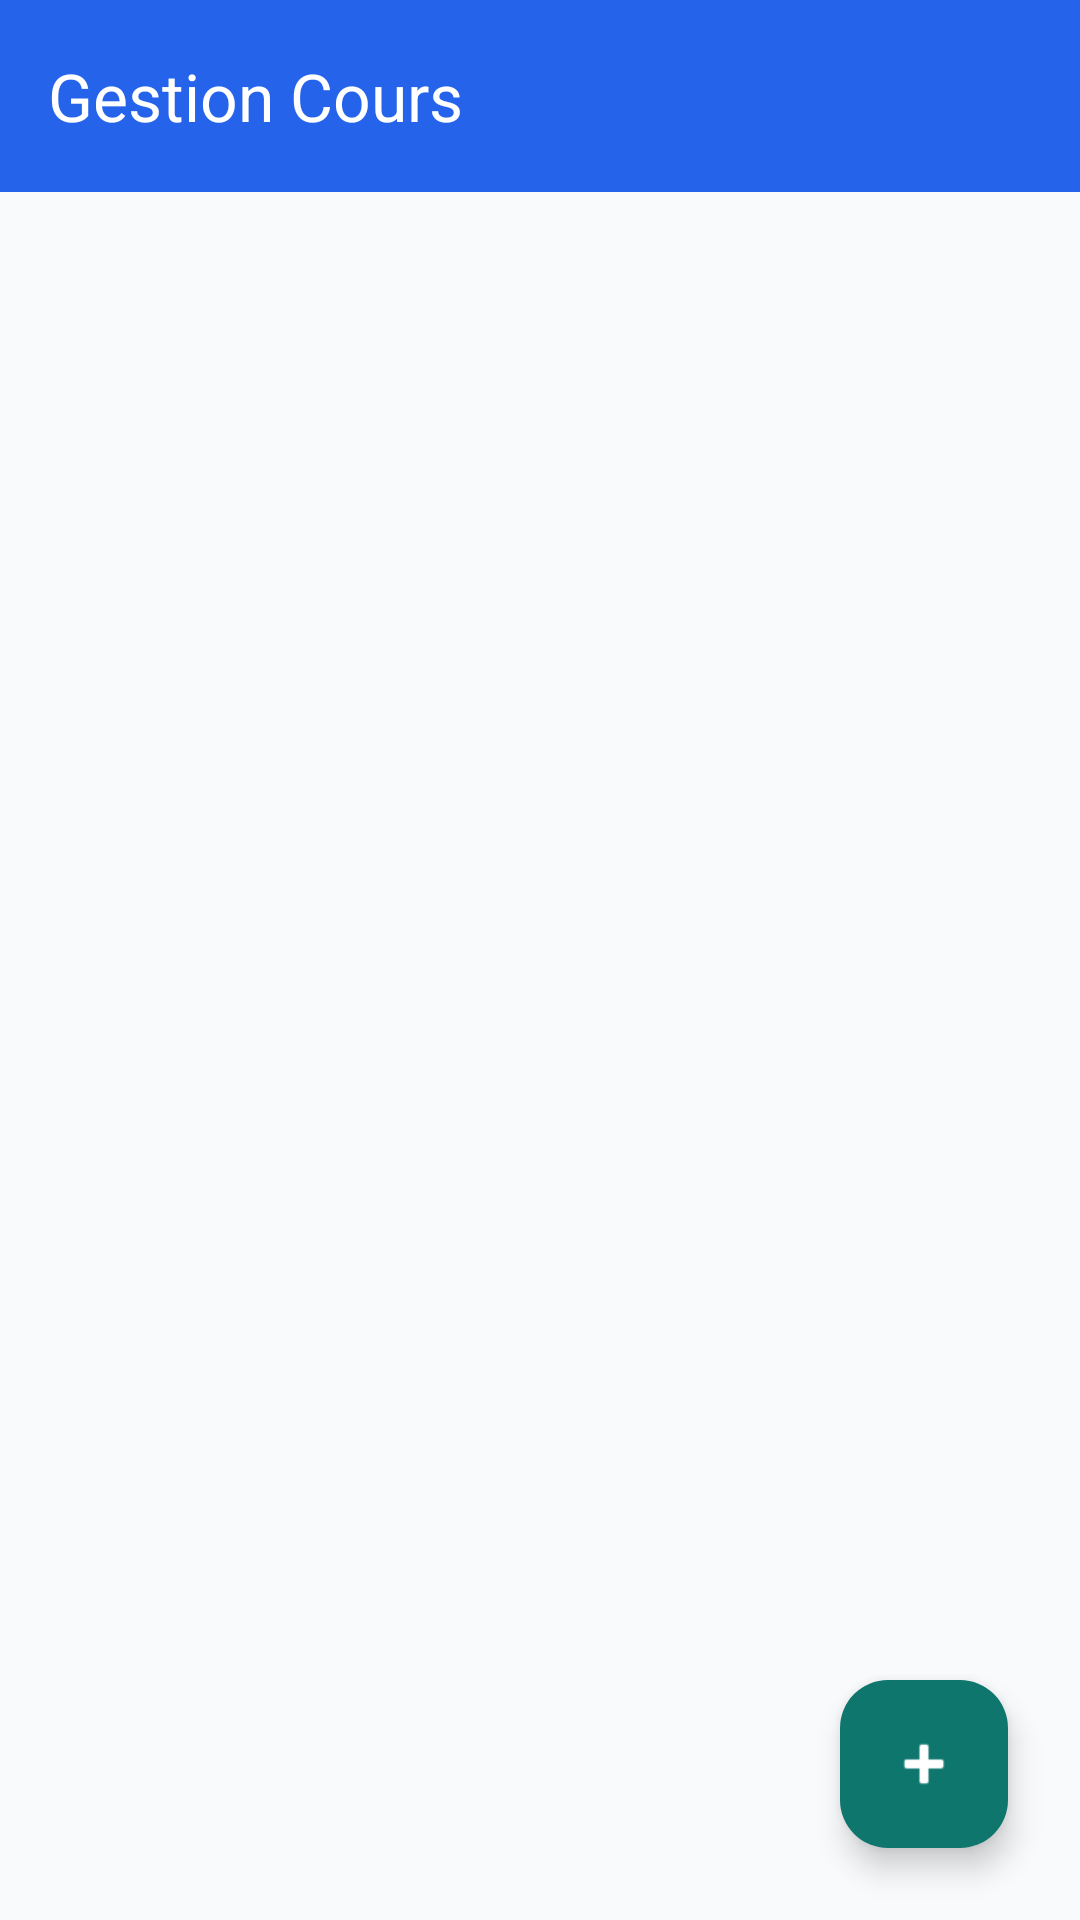

Icon click points for this 1080w x 1920h phone screenshot, format [x,y]:
Ajouter un cours: [924,1764]
